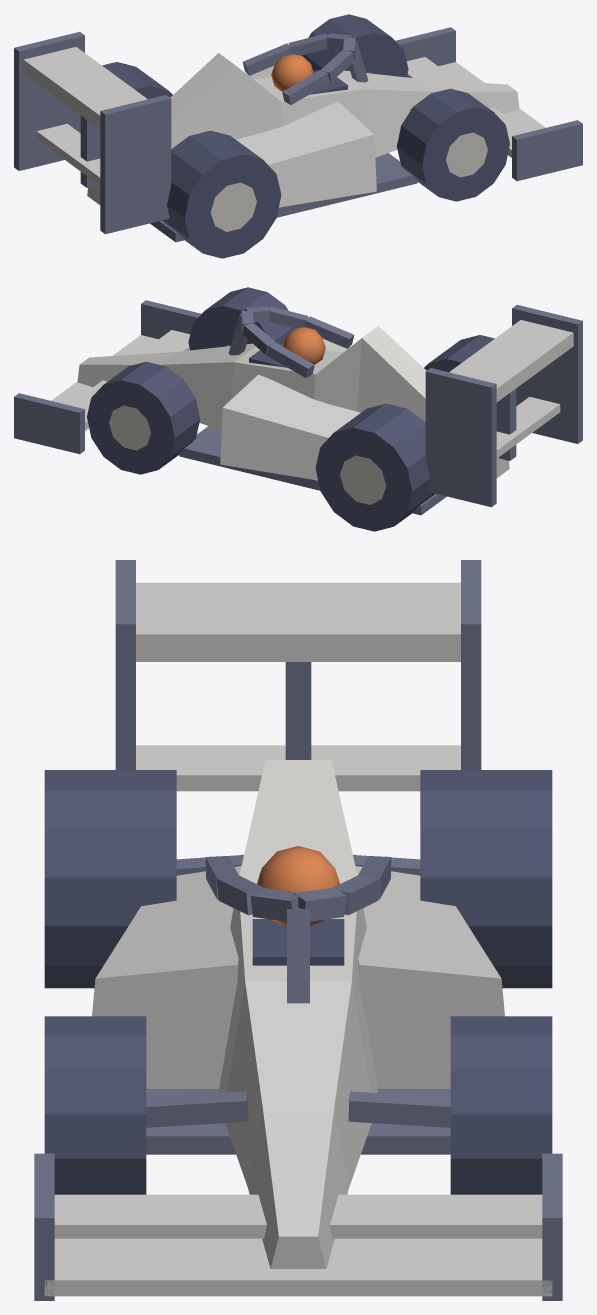
3 views of the same model, one above another, from view 1: azimuth 30°, elevation 25°; view 2: azimuth 150°, elevation 25°; view 3: azimuth 270°, elevation 25° (orthographic). The views are drawn at different scales.
Visible parts, largest first — view 1: f1; view 2: f1; view 3: f1.
Boxes of the visible parts, x1,y1,x2,y2 form: f1: (14, 14, 582, 258); f1: (14, 287, 582, 531); f1: (34, 560, 562, 1300).
Bounding box in the file's own units: 1.94 × 0.6292 × 0.9695.
